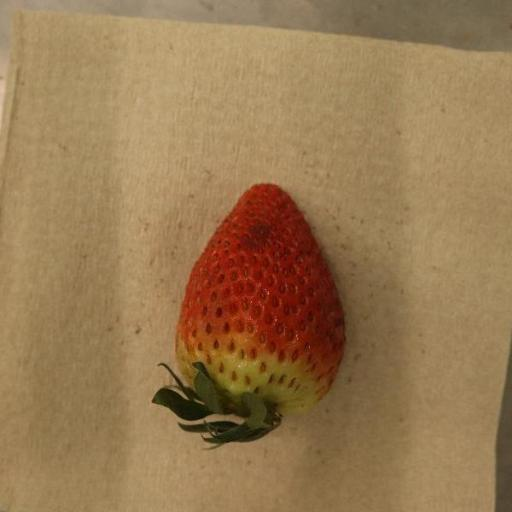Strawberry: (152, 184, 347, 448)
